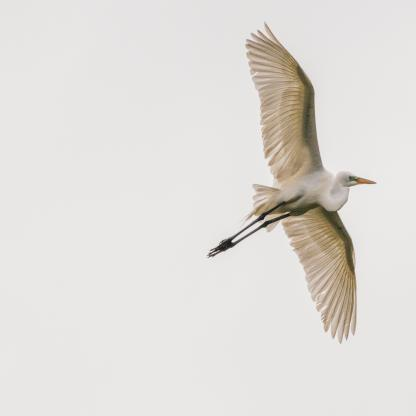bird: (209, 22, 376, 344)
